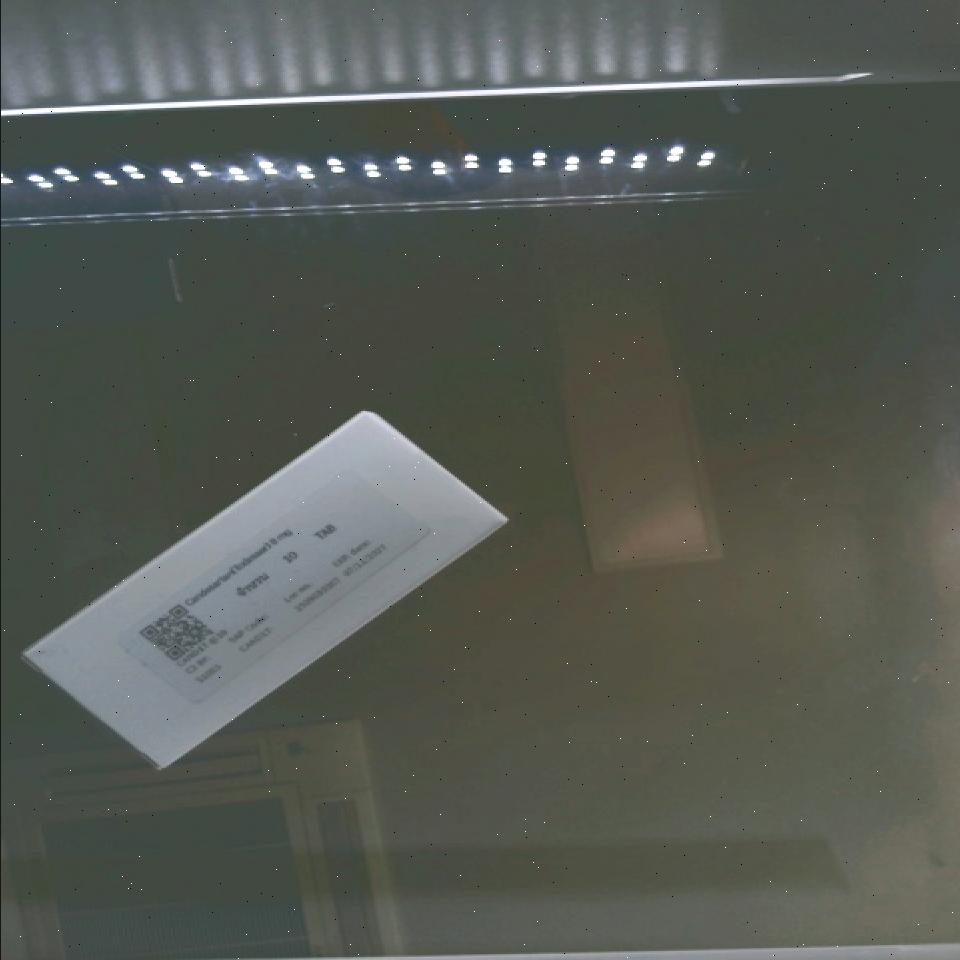medicine_box: (26, 375, 505, 793)
qr_code: (119, 578, 244, 700)
